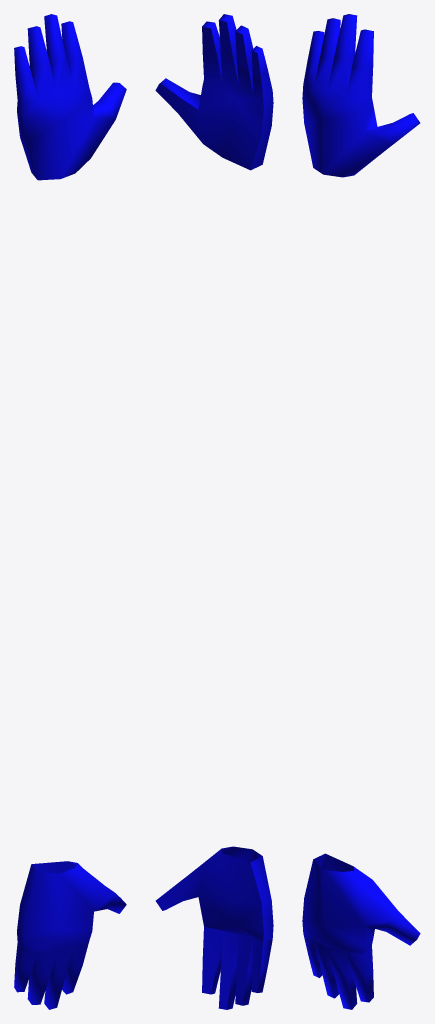
3 renders of one model, left to right at view 1: azimuth 30°, elevation 25°; view 2: azimuth 150°, elevation 25°; view 3: azimuth 330°, elevation 25°, orthographic.
Parts seen in each view (by area): view 1: vr_hand_001; view 2: vr_hand_001; view 3: vr_hand_001.
Part boxes in pixels (box(x1,y1,x2,y2)): vr_hand_001: box(14, 14, 126, 1009); vr_hand_001: box(155, 14, 273, 1009); vr_hand_001: box(302, 14, 420, 1009).
Bounding box in the file's own units: 16.56 × 144 × 5.65.
